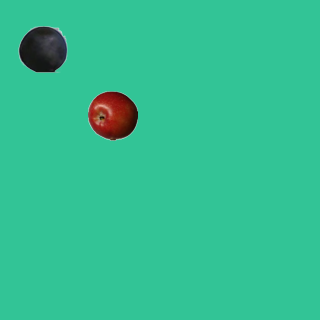Apple Braeburn: (87, 90, 137, 140)
Grape Blue: (17, 23, 67, 73)
